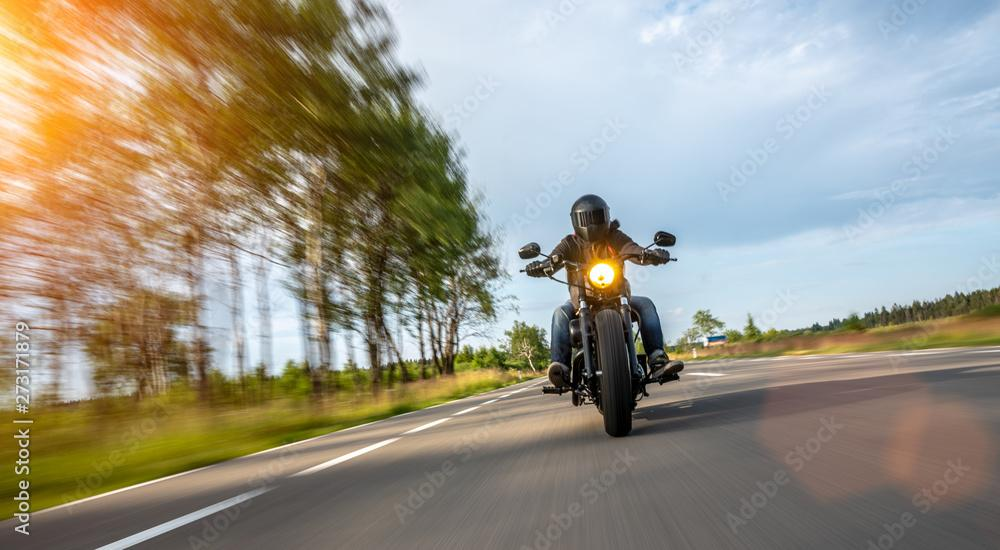helmet: (570, 193, 611, 243)
